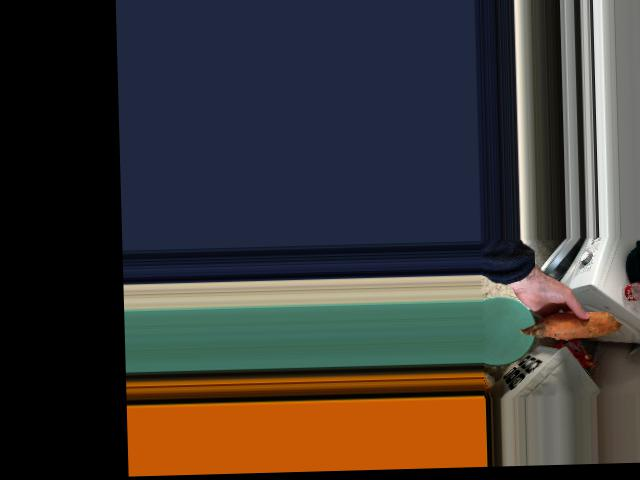sweet_potato: (528, 307, 609, 339)
